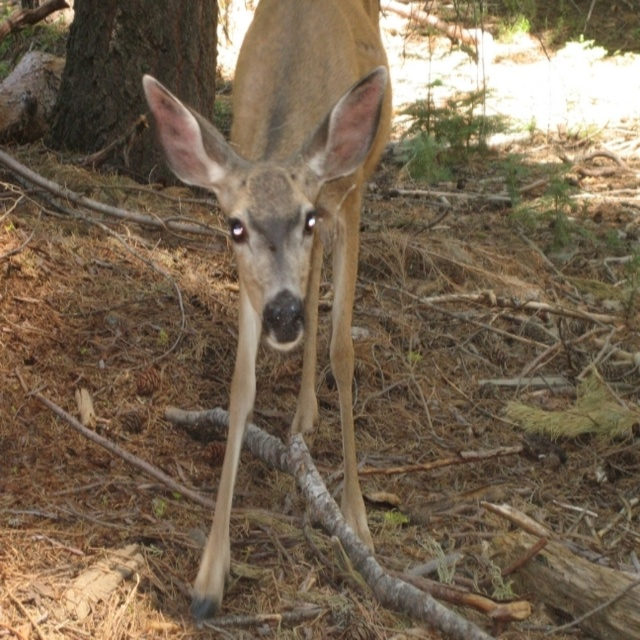Deer: (142, 1, 392, 621)
